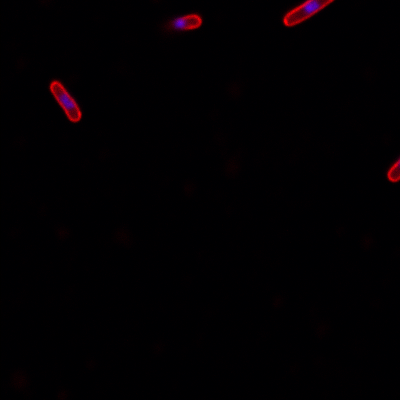Nalidixate: (49, 80, 84, 124)
Oblique: (159, 13, 204, 35)
